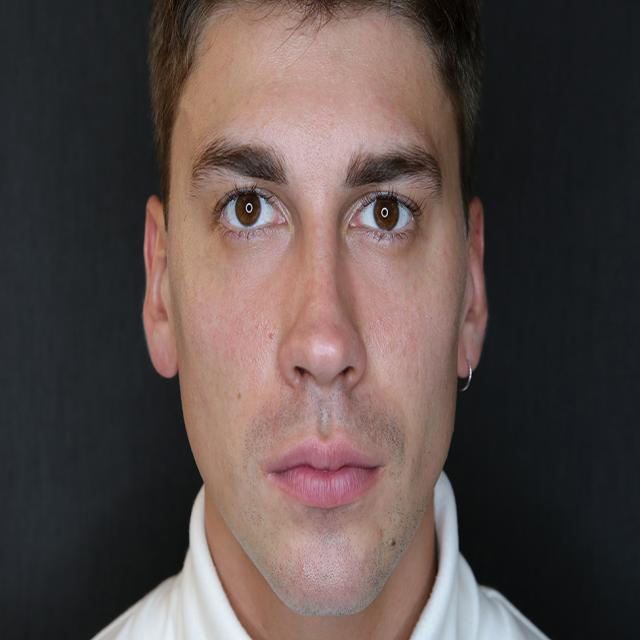earlobe: (142, 195, 179, 381), (454, 197, 488, 380)
